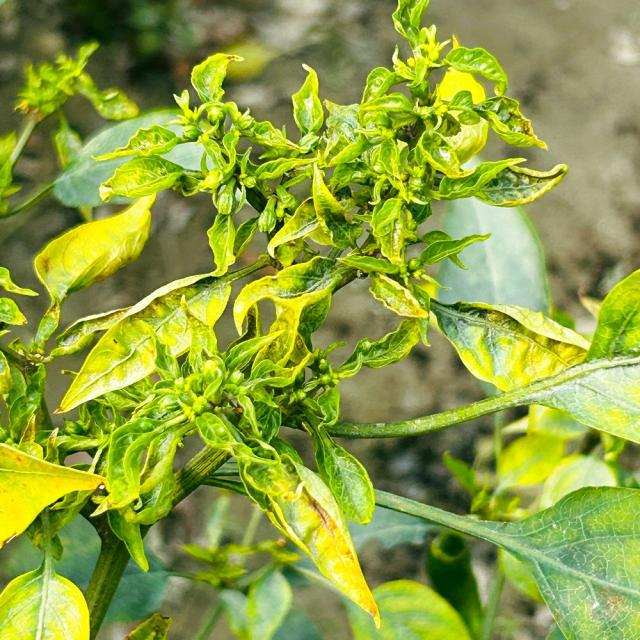Chilli_Leaf_Curl: (1, 1, 638, 636), (194, 407, 382, 630), (0, 440, 108, 549)
